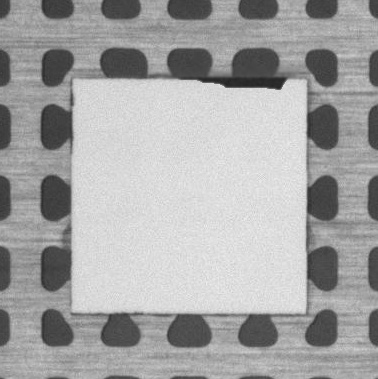DIE_BROKEN: (176, 71, 291, 92)
